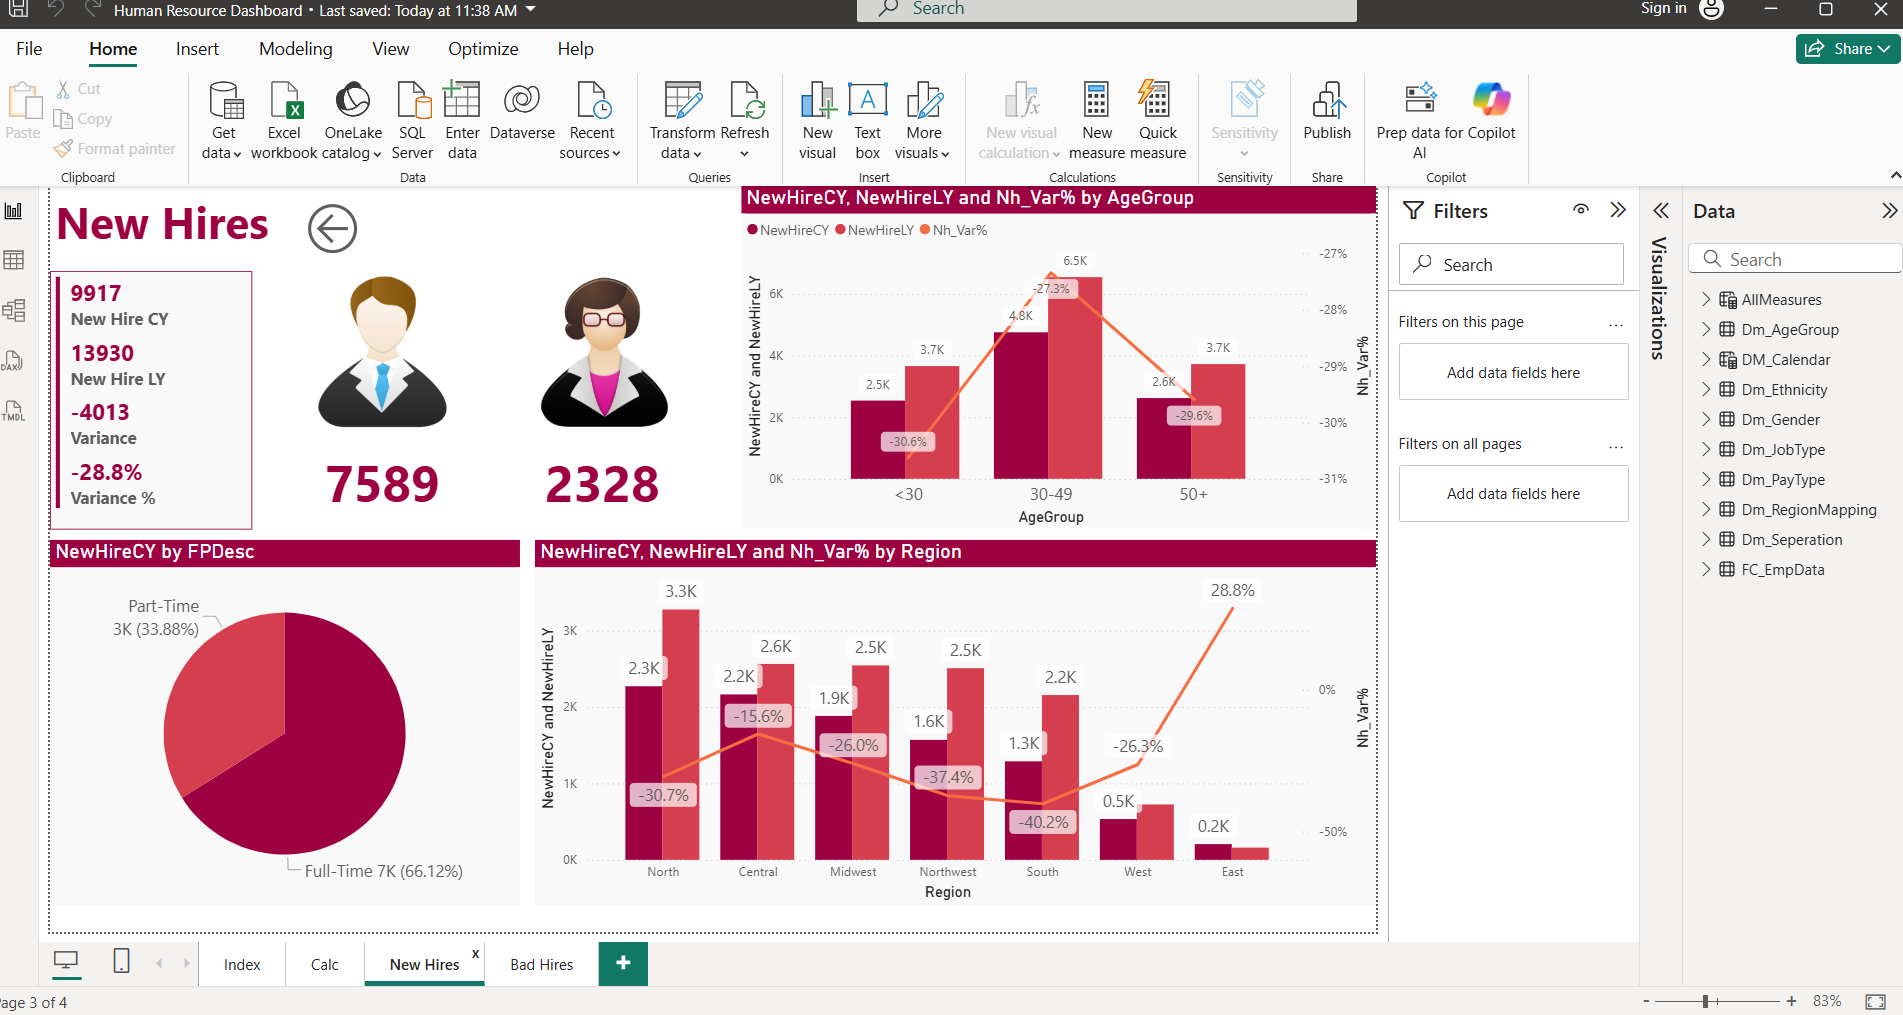

This screenshot's page, from the dashboard's own definition file:
{"tool":"powerbi","page":{"name":"New Hires","canvas":[1280,720],"ordinal":2},"visuals":[{"type":"textbox","box":[0,0,259.6,82.4],"z":0},{"type":"multiRowCard","fields":{"Values":["AllMeasures.NewHireCY","AllMeasures.NewHireLY","AllMeasures.NewHireVar","AllMeasures.Nh_Var%"]},"box":[0,82.4,195,250],"z":1},{"type":"image","box":[241.7,82.4,159.3,156.6],"z":2},{"type":"image","box":[458.7,82.4,153.8,156.6],"z":3},{"type":"card","fields":{"Values":["AllMeasures.NewHireCY"]},"box":[241.7,239,159.3,93.4],"z":4},{"type":"card","fields":{"Values":["AllMeasures.NewHireCY"]},"box":[453.2,239,159.3,93.4],"z":5},{"type":"lineClusteredColumnComboChart","fields":{"Category":["Dm_AgeGroup.AgeGroup"],"Y":["AllMeasures.NewHireCY","AllMeasures.NewHireLY"],"Y2":["AllMeasures.Nh_Var%"]},"box":[667.5,0,612.5,332.4],"z":6},{"type":"pieChart","fields":{"Y":["AllMeasures.NewHireCY"],"Category":["Dm_JobType.FPDesc"]},"box":[0,342,453.2,353],"z":7},{"type":"lineClusteredColumnComboChart","fields":{"Y":["AllMeasures.NewHireCY","AllMeasures.NewHireLY"],"Y2":["AllMeasures.Nh_Var%"],"Category":["Dm_RegionMapping.Region","Dm_RegionMapping.VP"]},"box":[468.3,342,811.7,353],"z":8},{"type":"actionButton","box":[242,10.5,100.1,60.5],"z":9}]}

Visuals, with their boxes on the page's 1280x720 design canvas (x1, y1, x2, y2). These are canvas units, not pixel positions in the 1903x1015 screenshot, which may show the page scaled, cropped or inside an application window:
textbox: [0,0,260,82]
multiRowCard - AllMeasures.NewHireCY x AllMeasures.NewHireLY: [0,82,195,332]
image: [242,82,401,239]
image: [459,82,612,239]
card - AllMeasures.NewHireCY: [242,239,401,332]
card - AllMeasures.NewHireCY: [453,239,612,332]
lineClusteredColumnComboChart - Dm_AgeGroup.AgeGroup x AllMeasures.NewHireCY: [668,0,1280,332]
pieChart - AllMeasures.NewHireCY x Dm_JobType.FPDesc: [0,342,453,695]
lineClusteredColumnComboChart - AllMeasures.NewHireCY x AllMeasures.NewHireLY: [468,342,1280,695]
actionButton: [242,10,342,71]
